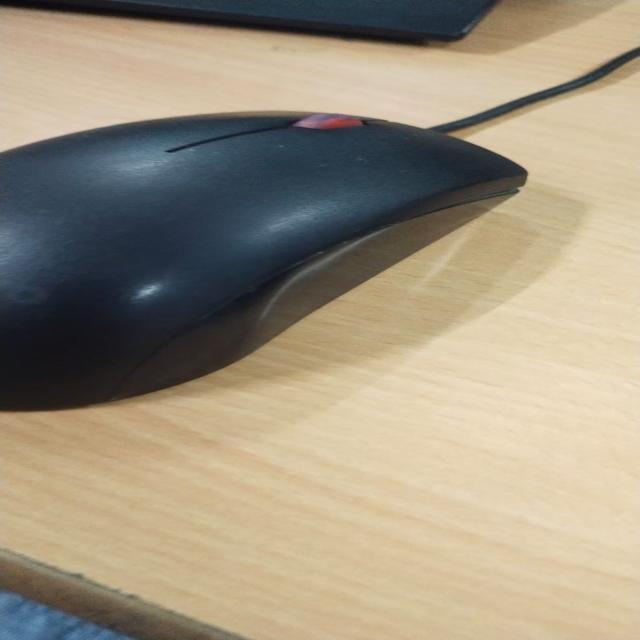Mouse: (0, 54, 606, 446)
